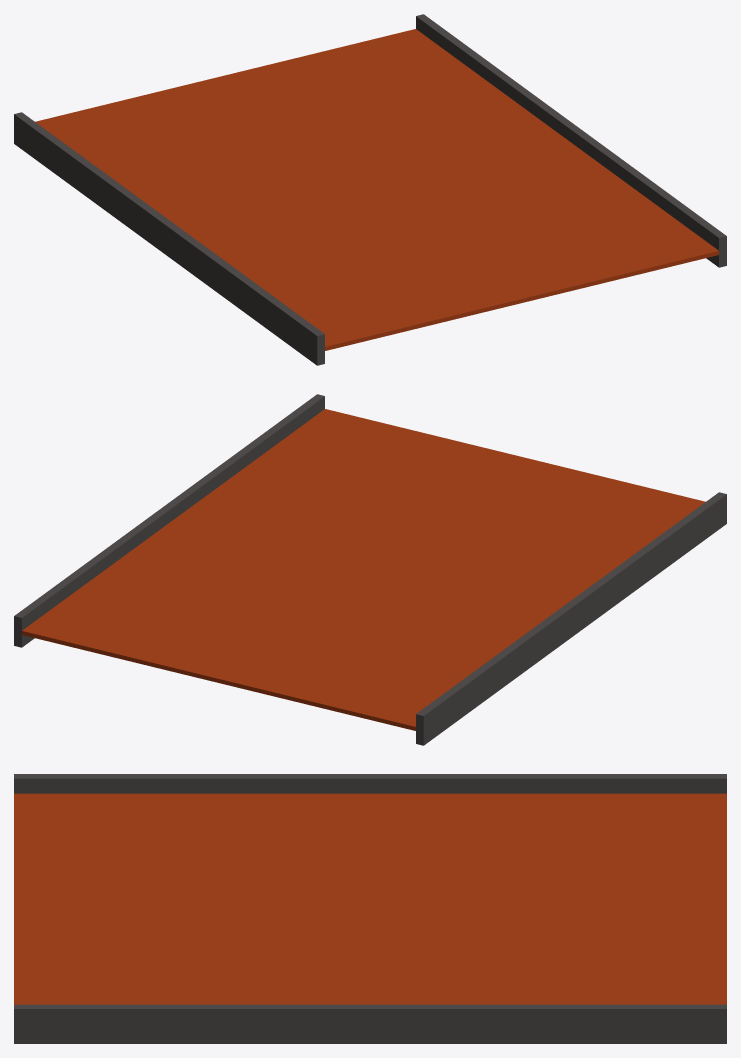
Rendered from onlyboardfinished.gltf.
3 renders of one model, top to bottom at view 1: azimuth 30°, elevation 25°; view 2: azimuth 150°, elevation 25°; view 3: azimuth 270°, elevation 25°, orthographic. The views are drawn at different scales.
Visible parts, largest first — view 1: Cube.009, Cube.011, Cube.012; view 2: Cube.009, Cube.011, Cube.012; view 3: Cube.009, Cube.012, Cube.011.
Boxes of the visible parts, x1,y1,x2,y2 form: Cube.009: (35, 29, 718, 350); Cube.011: (14, 112, 324, 365); Cube.012: (416, 14, 726, 267); Cube.009: (22, 409, 705, 730); Cube.011: (416, 492, 726, 745); Cube.012: (14, 394, 324, 647); Cube.009: (14, 793, 726, 1004); Cube.012: (14, 1004, 726, 1043); Cube.011: (14, 774, 726, 793).
Bounding box in the file's own units: 31.2 × 2.16 × 40.
